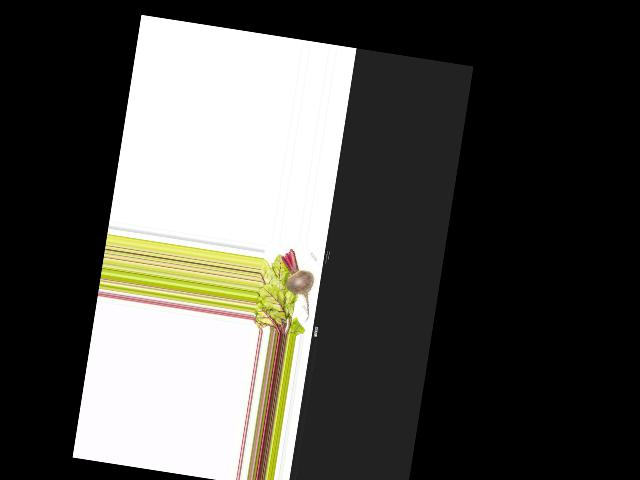beet: (272, 247, 318, 321)
